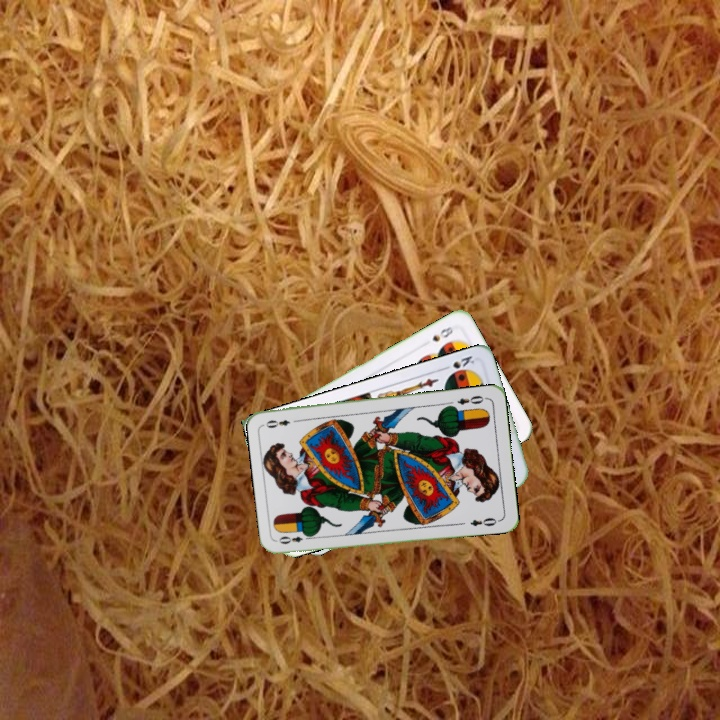EO: (275, 530, 315, 547), (453, 391, 489, 407)
S8: (428, 322, 456, 344)
SK: (438, 352, 477, 373)
